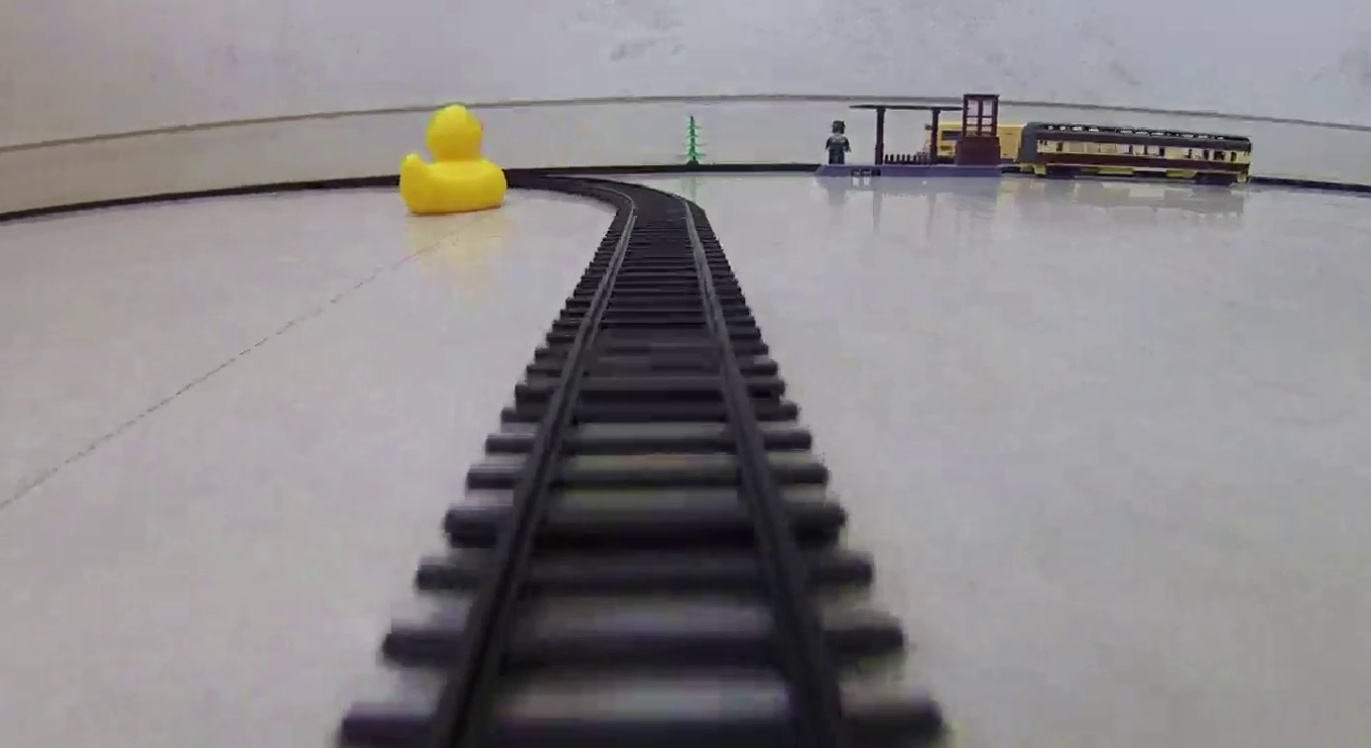people: (824, 119, 854, 166)
tree: (675, 116, 709, 166)
